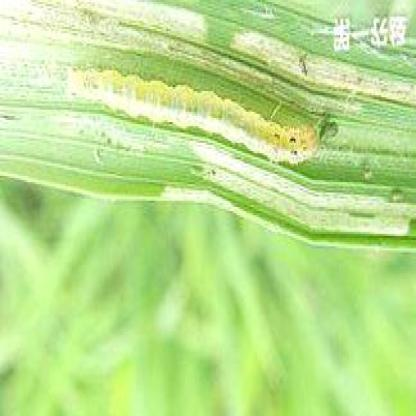leaf-folder: (63, 48, 344, 178)
